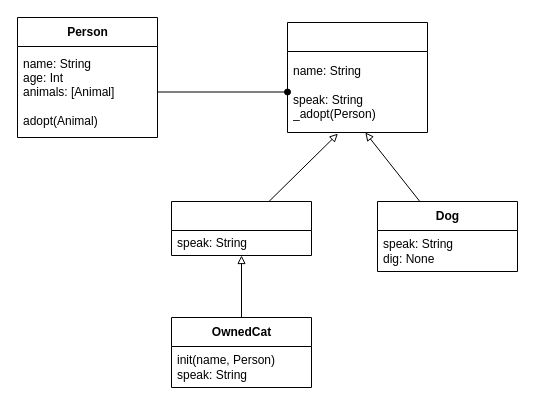
Image size: 535x405. Some labels were removed from this diagram. Here are the shapes that lost their labels. From the top down, the box of each, then its label:
(286, 22, 428, 132): Animal
(170, 200, 312, 256): Cat
